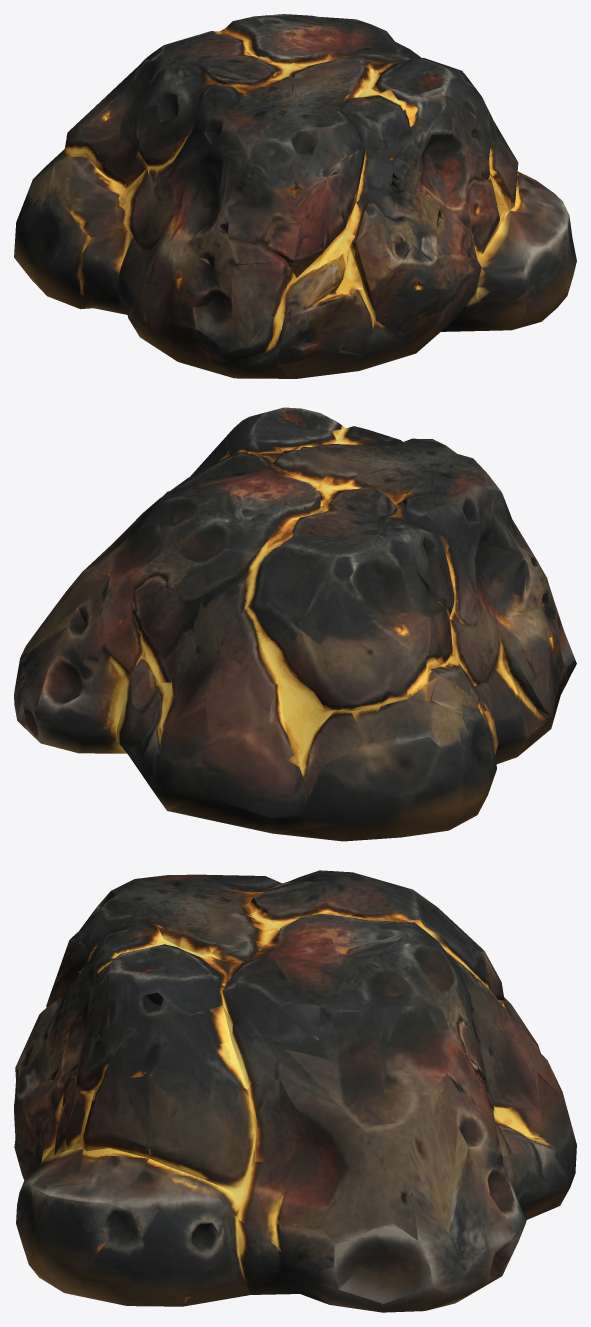
3 renders of one model, top to bottom at view 1: azimuth 30°, elevation 25°; view 2: azimuth 150°, elevation 25°; view 3: azimuth 270°, elevation 25°, orthographic. The views are drawn at different scales.
Visible parts, largest first — view 1: adamant_meteor; view 2: adamant_meteor; view 3: adamant_meteor.
Boxes of the visible parts, bbox=[...] form: adamant_meteor: bbox=[14, 14, 576, 378]; adamant_meteor: bbox=[14, 407, 576, 841]; adamant_meteor: bbox=[14, 870, 576, 1312].
Bounding box in the file's own units: 1.9 × 0.9778 × 1.81.
Materials: 1 (1 with a texture image).
